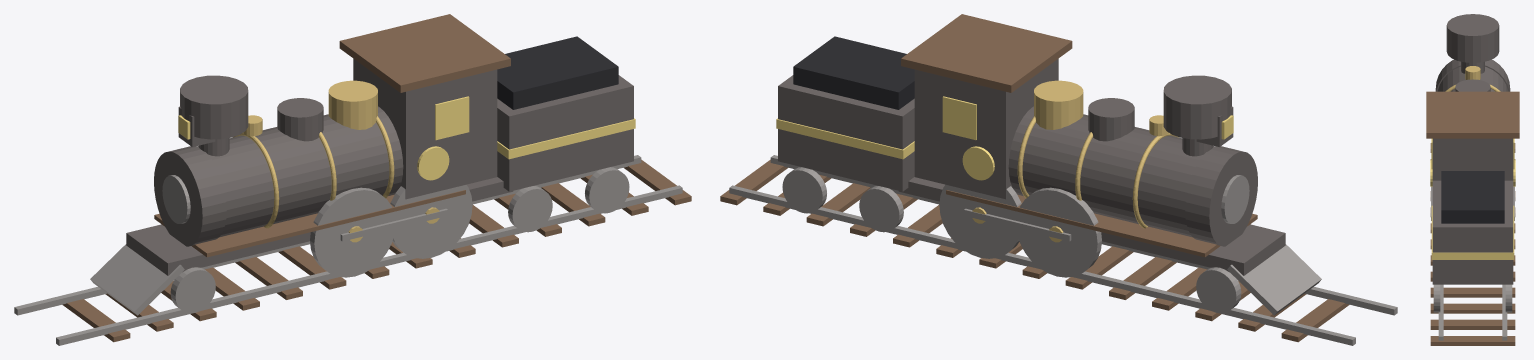
File: goldmine_train.glb
3 views of the same model, side by side, from view 1: azimuth 30°, elevation 25°; view 2: azimuth 150°, elevation 25°; view 3: azimuth 270°, elevation 25° (orthographic). The views are drawn at different scales.
Visible parts, largest first — view 1: Boiler, Tender, Cab, CabRoof, TenderCoal, Driver1_R, Smokebox, RailR, Frame, Driver2_R, StackFunnel, Cowcatcher (+20 smaller); view 2: Boiler, Tender, Cab, CabRoof, TenderCoal, Driver1_L, Smokebox, RailL, Frame, Driver2_L, StackFunnel, Cowcatcher (+20 smaller); view 3: Tender, CabRoof, TenderCoal, Cab, StackFunnel, TenderStripe, Tie_12, Tie_13, Boiler, Tie_11, Tie_10, Smokebox (+7 smaller).
Boxes of the visible parts, x1=… form: Boiler: x1=197, y1=106, x2=403, y2=237; Tender: x1=497, y1=75, x2=633, y2=191; Cab: x1=353, y1=58, x2=497, y2=199; CabRoof: x1=339, y1=14, x2=510, y2=92; TenderCoal: x1=497, y1=36, x2=618, y2=109; Driver1_R: x1=310, y1=187, x2=393, y2=277; Smokebox: x1=154, y1=146, x2=226, y2=246; RailR: x1=56, y1=185, x2=682, y2=345; Frame: x1=126, y1=177, x2=513, y2=275; Driver2_R: x1=390, y1=184, x2=472, y2=258; StackFunnel: x1=180, y1=75, x2=248, y2=139; Cowcatcher: x1=90, y1=244, x2=184, y2=315; Boiler: x1=1008, y1=106, x2=1214, y2=237; Tender: x1=778, y1=75, x2=914, y2=191; Cab: x1=914, y1=58, x2=1058, y2=199; CabRoof: x1=901, y1=14, x2=1072, y2=92; TenderCoal: x1=793, y1=36, x2=914, y2=109; Driver1_L: x1=1018, y1=187, x2=1101, y2=277; Smokebox: x1=1185, y1=146, x2=1257, y2=246; RailL: x1=729, y1=185, x2=1355, y2=345; Frame: x1=898, y1=177, x2=1285, y2=275; Driver2_L: x1=939, y1=184, x2=1021, y2=258; StackFunnel: x1=1163, y1=75, x2=1231, y2=139; Cowcatcher: x1=1227, y1=244, x2=1321, y2=315; Tender: x1=1432, y1=180, x2=1513, y2=284; CabRoof: x1=1426, y1=91, x2=1519, y2=138; TenderCoal: x1=1441, y1=171, x2=1504, y2=223; Cab: x1=1432, y1=138, x2=1513, y2=180; StackFunnel: x1=1446, y1=14, x2=1499, y2=62; TenderStripe: x1=1431, y1=205, x2=1514, y2=259; Tie_12: x1=1430, y1=319, x2=1515, y2=329; Tie_13: x1=1430, y1=336, x2=1515, y2=345; Boiler: x1=1437, y1=66, x2=1508, y2=91; Tie_11: x1=1430, y1=303, x2=1515, y2=313; Tie_10: x1=1430, y1=287, x2=1515, y2=297; Smokebox: x1=1435, y1=59, x2=1510, y2=91.
Size of the model in its own units: 13.07 by 4 by 2.2.
